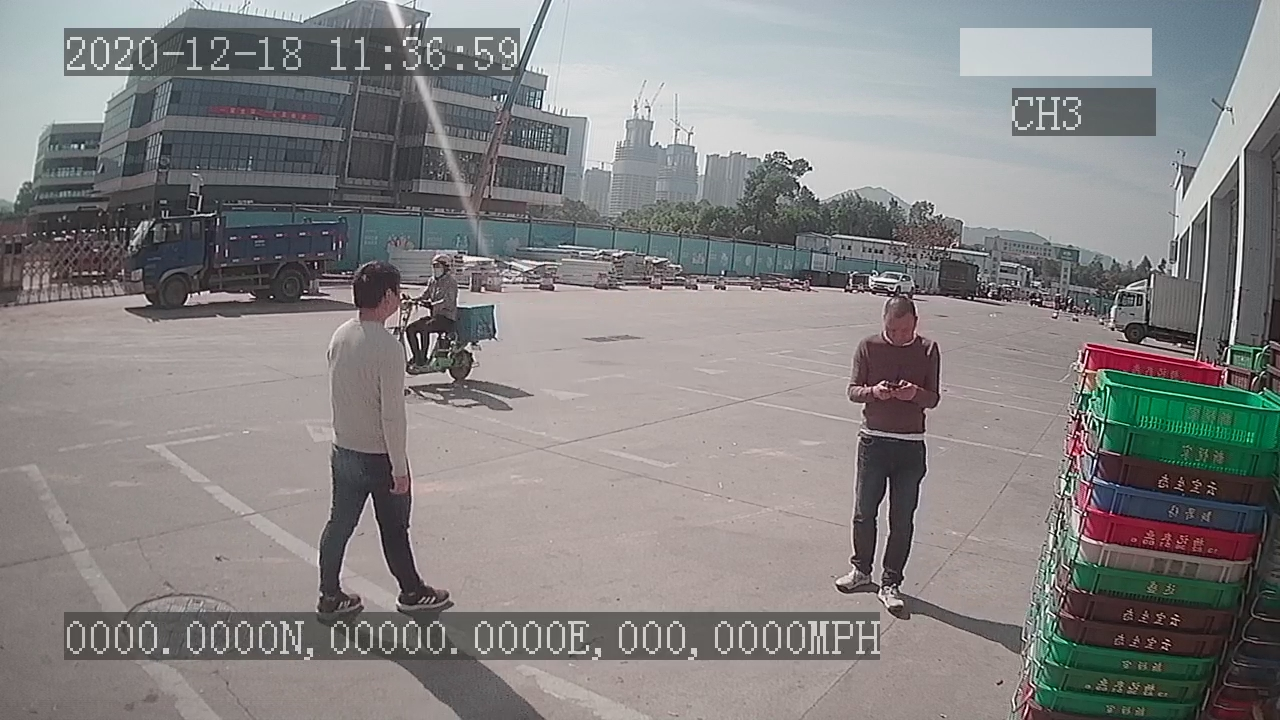person: (829, 293, 945, 606)
